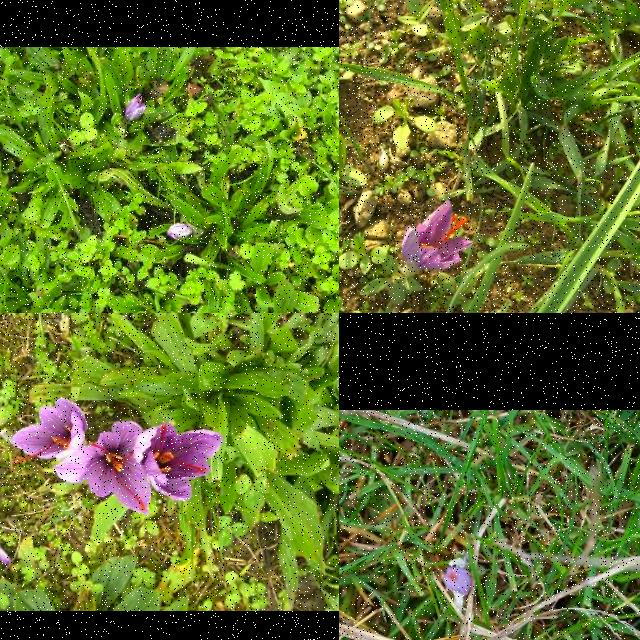flower: (56, 422, 152, 518), (135, 426, 219, 502), (11, 398, 89, 466), (401, 200, 474, 270), (445, 567, 471, 595), (125, 94, 146, 122), (166, 222, 194, 240)
